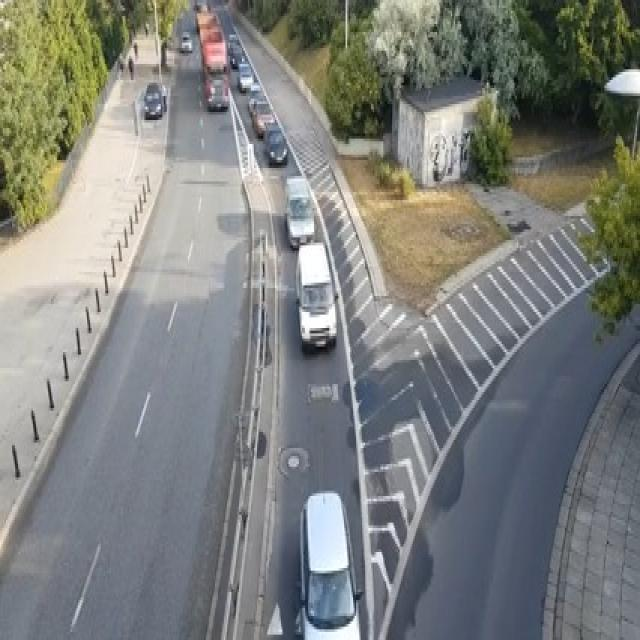car: (294, 488, 364, 637), (294, 240, 336, 349), (284, 173, 314, 248), (263, 123, 287, 165), (142, 80, 166, 117), (251, 99, 275, 136), (204, 75, 228, 109), (248, 82, 266, 114), (237, 61, 254, 91), (195, 11, 218, 32), (228, 42, 245, 66), (180, 29, 192, 51)
